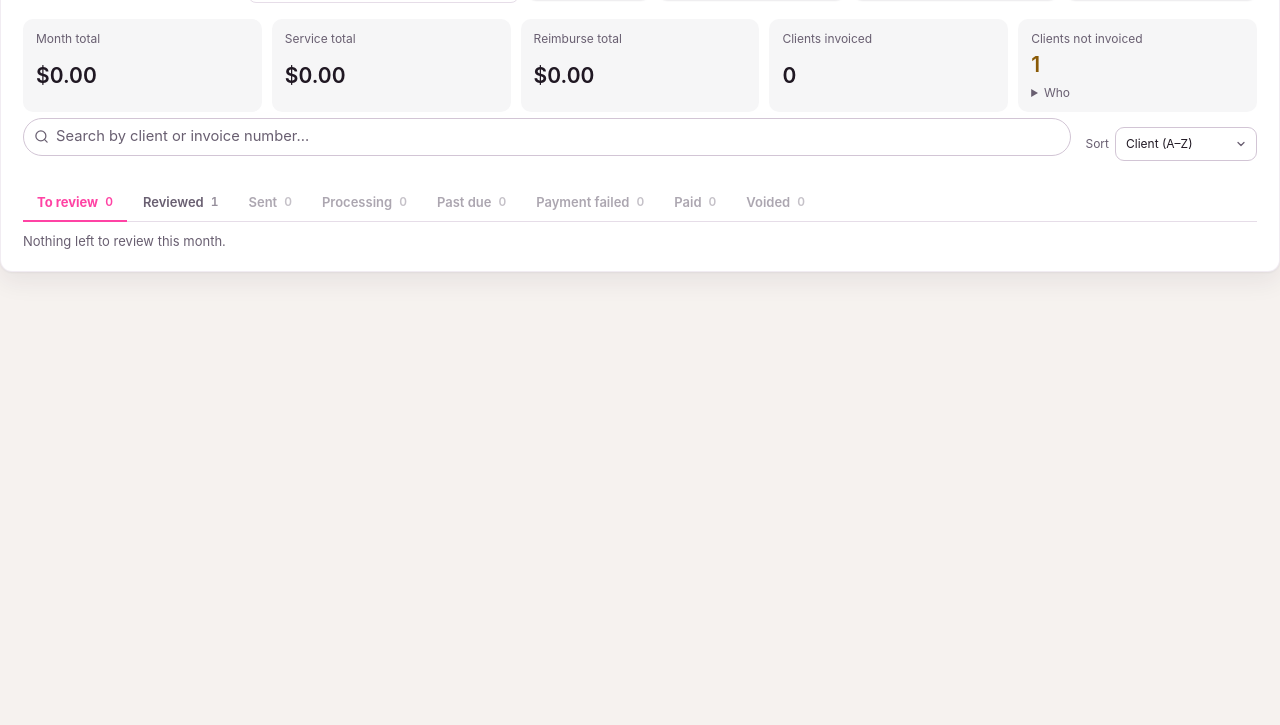
Scenario: Send on a marked invoice › Not now closes the question and sends nothing more
The width and height of the screenshot is (1280, 725).
Click the tab "Reviewed 1": (181, 203) left=129, top=184, right=232, bottom=222
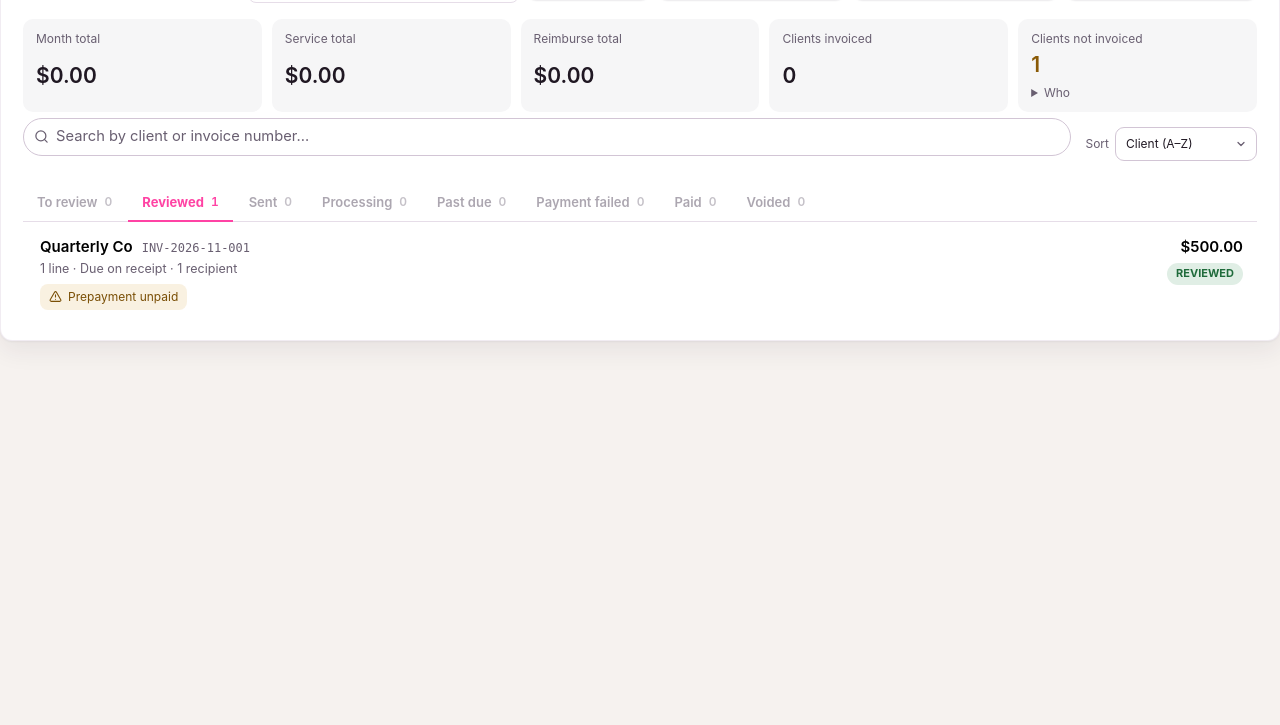
Click the text "INV-2026-11-001": (196, 249) left=142, top=240, right=250, bottom=258
(page scrolled)
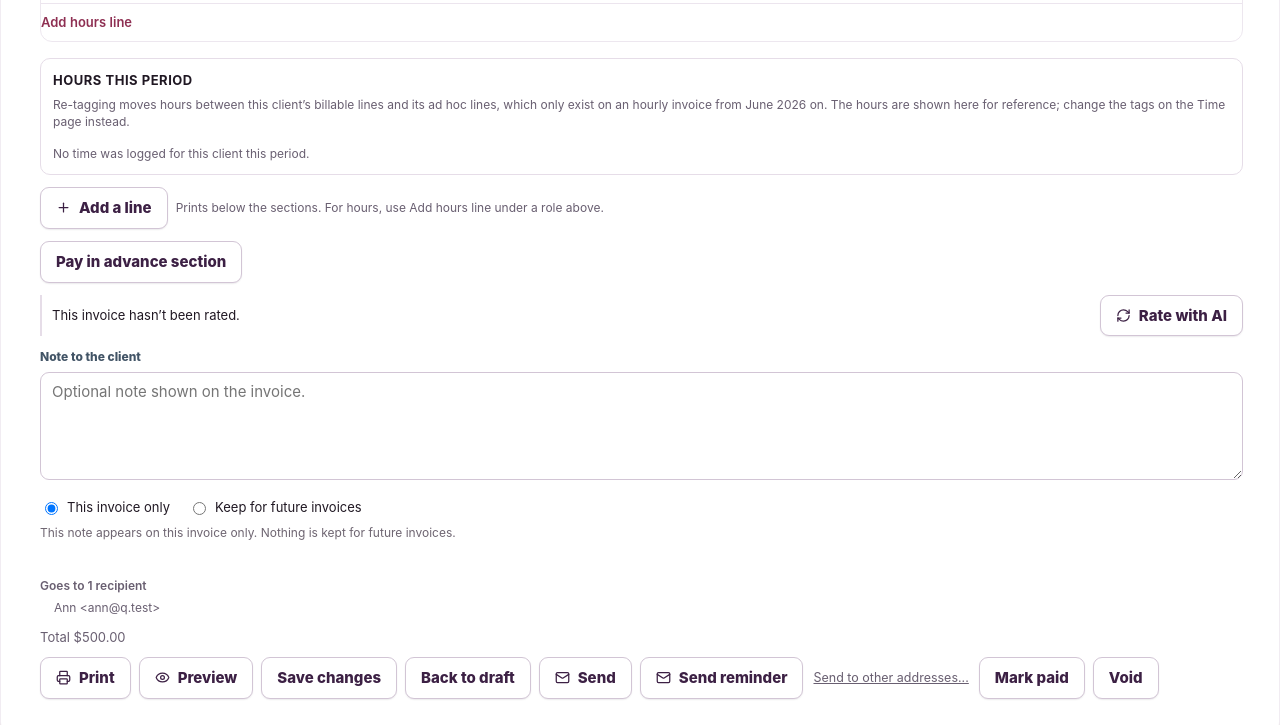
Click the button "Send": (585, 678) left=539, top=657, right=632, bottom=699
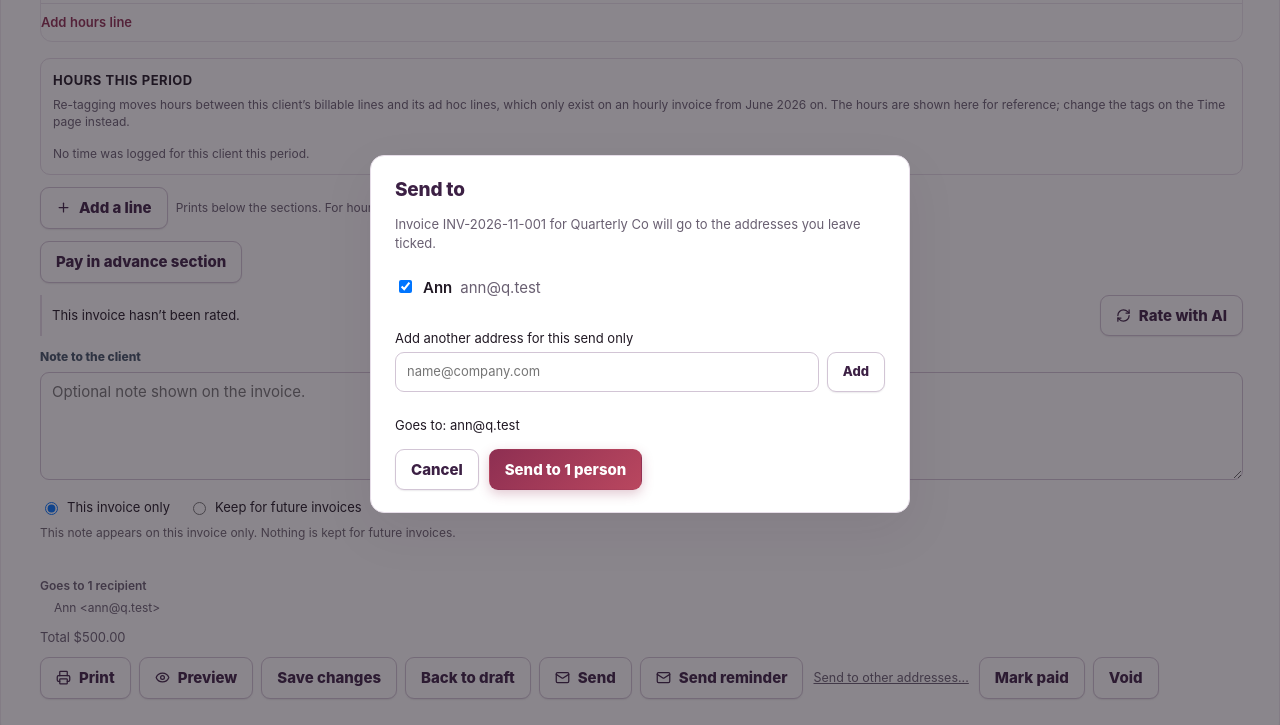
Click the button "Send to 1 person": (566, 470) left=489, top=449, right=642, bottom=490
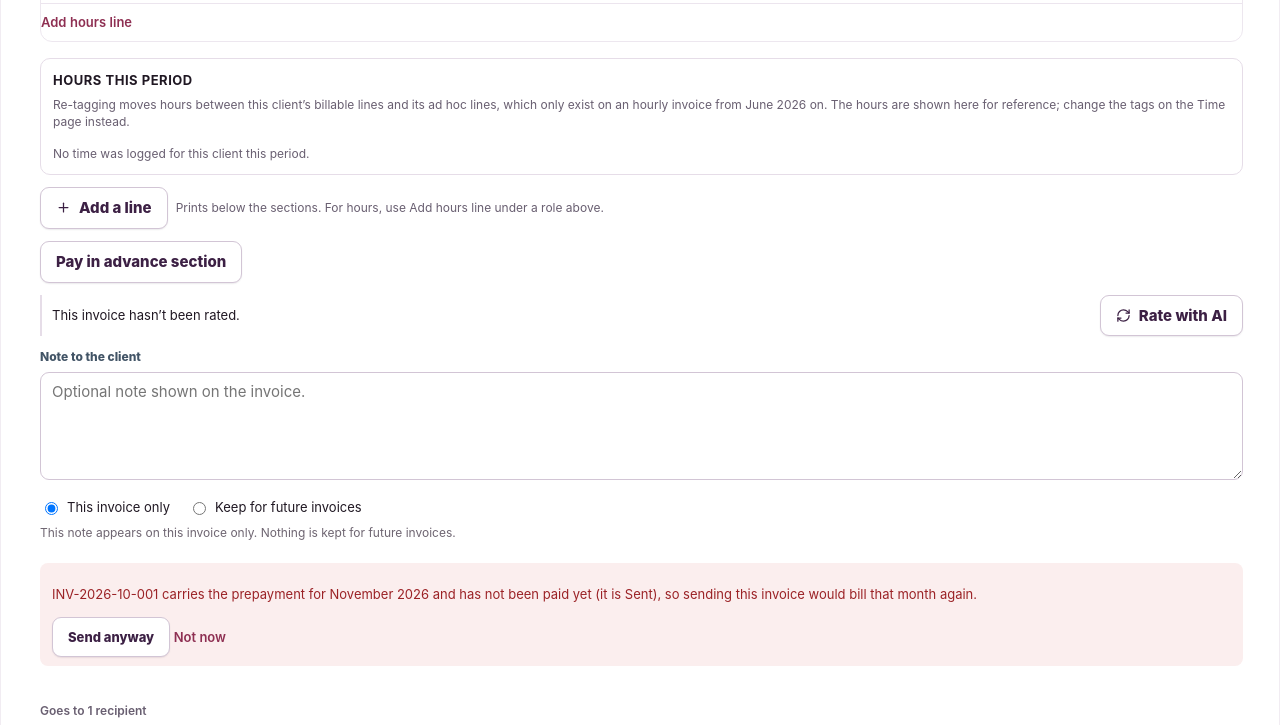
Click the button "Not now": (200, 637) left=174, top=624, right=226, bottom=650
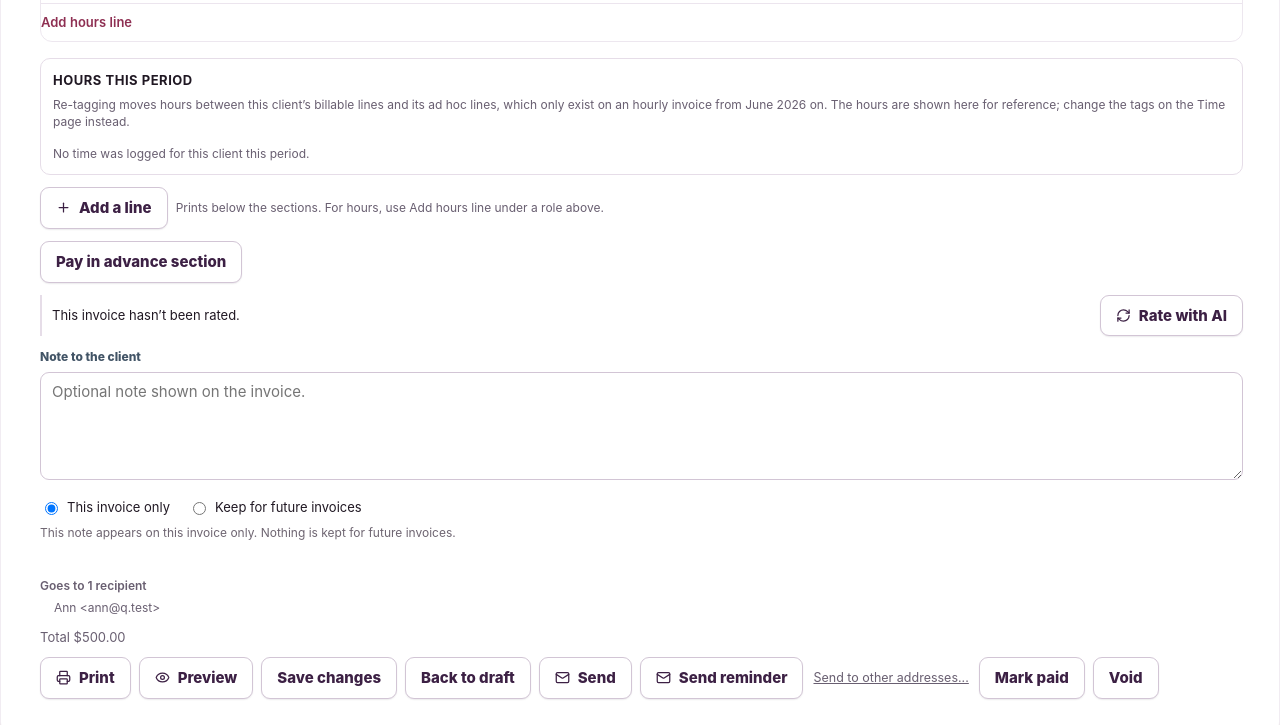
Result: the button "Send anyway" is gone
